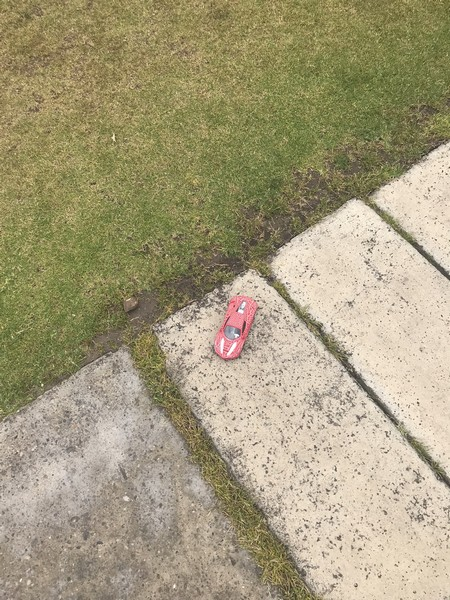RC: (214, 297, 260, 361)
